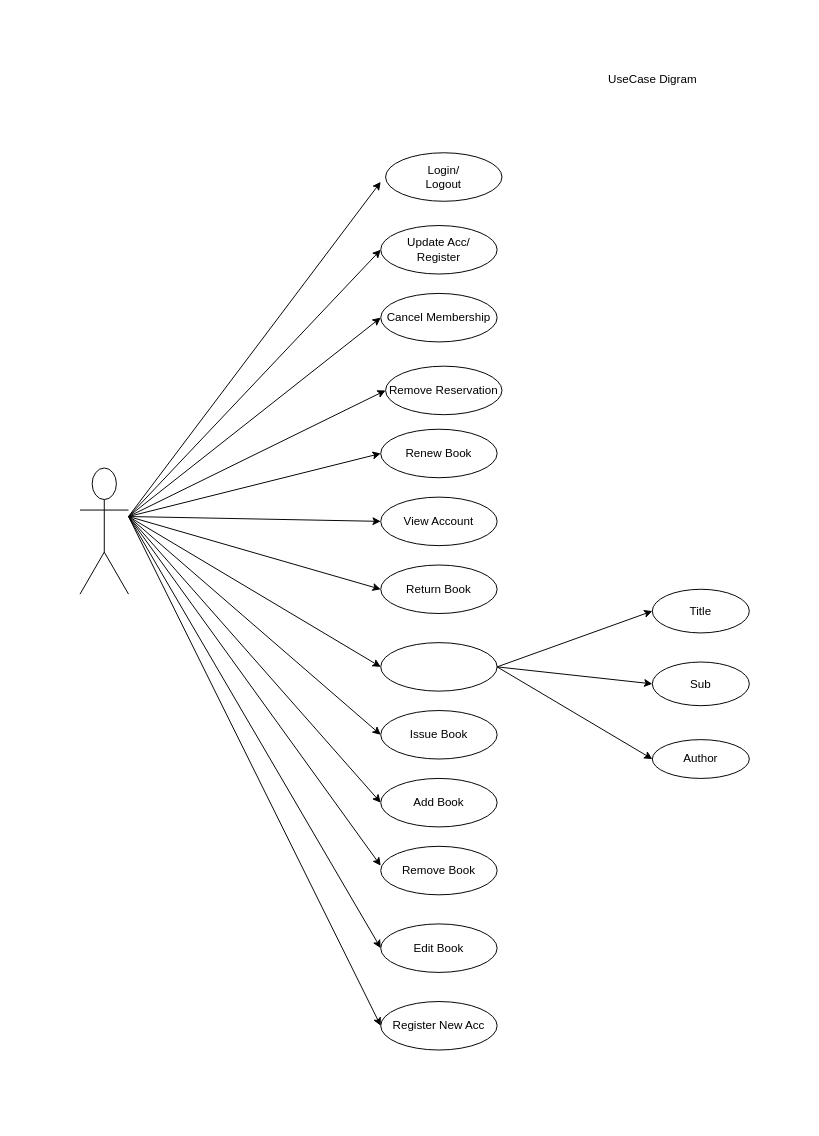
This 819x1136 diagram has some shape labels left out. The centre of each missing label's shape, as x and y in pixels:
"Librarian" belongs at (104,530).
"Search Catelog" belongs at (438,666).
